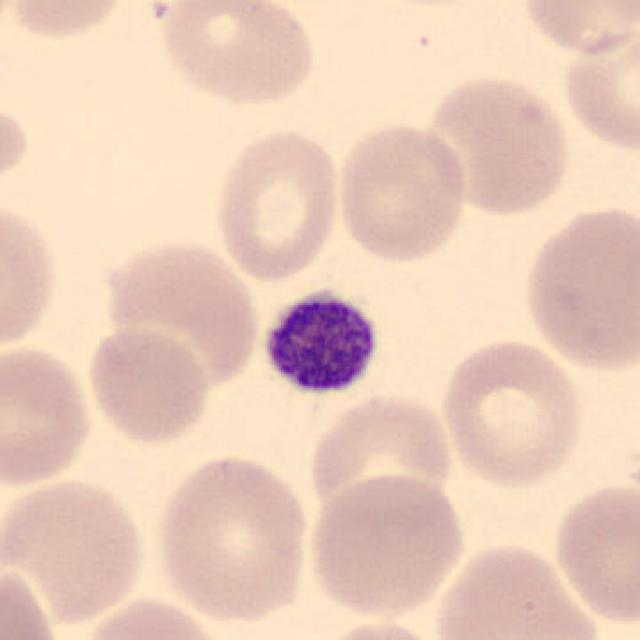platelets: (256, 280, 387, 401)
rbc: (156, 456, 315, 632), (311, 459, 456, 615), (524, 203, 640, 395), (109, 240, 261, 380), (215, 126, 347, 285), (445, 330, 582, 483), (0, 481, 152, 614), (431, 82, 577, 214), (339, 126, 473, 269), (306, 389, 453, 510), (164, 0, 318, 107), (89, 327, 217, 439), (546, 472, 640, 620), (431, 556, 593, 640), (0, 344, 96, 483), (562, 30, 640, 169), (0, 216, 59, 346), (87, 587, 217, 640), (525, 0, 638, 57), (19, 0, 116, 49), (0, 563, 58, 640), (0, 118, 36, 170)
